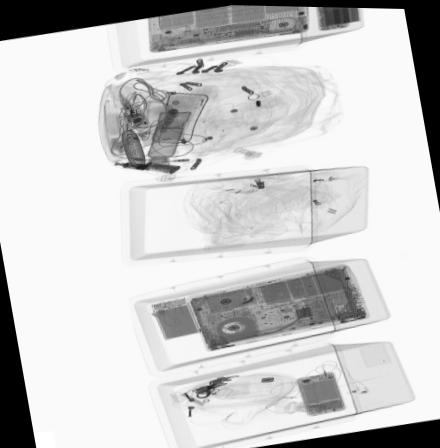Powerbank: (149, 295, 202, 339)
